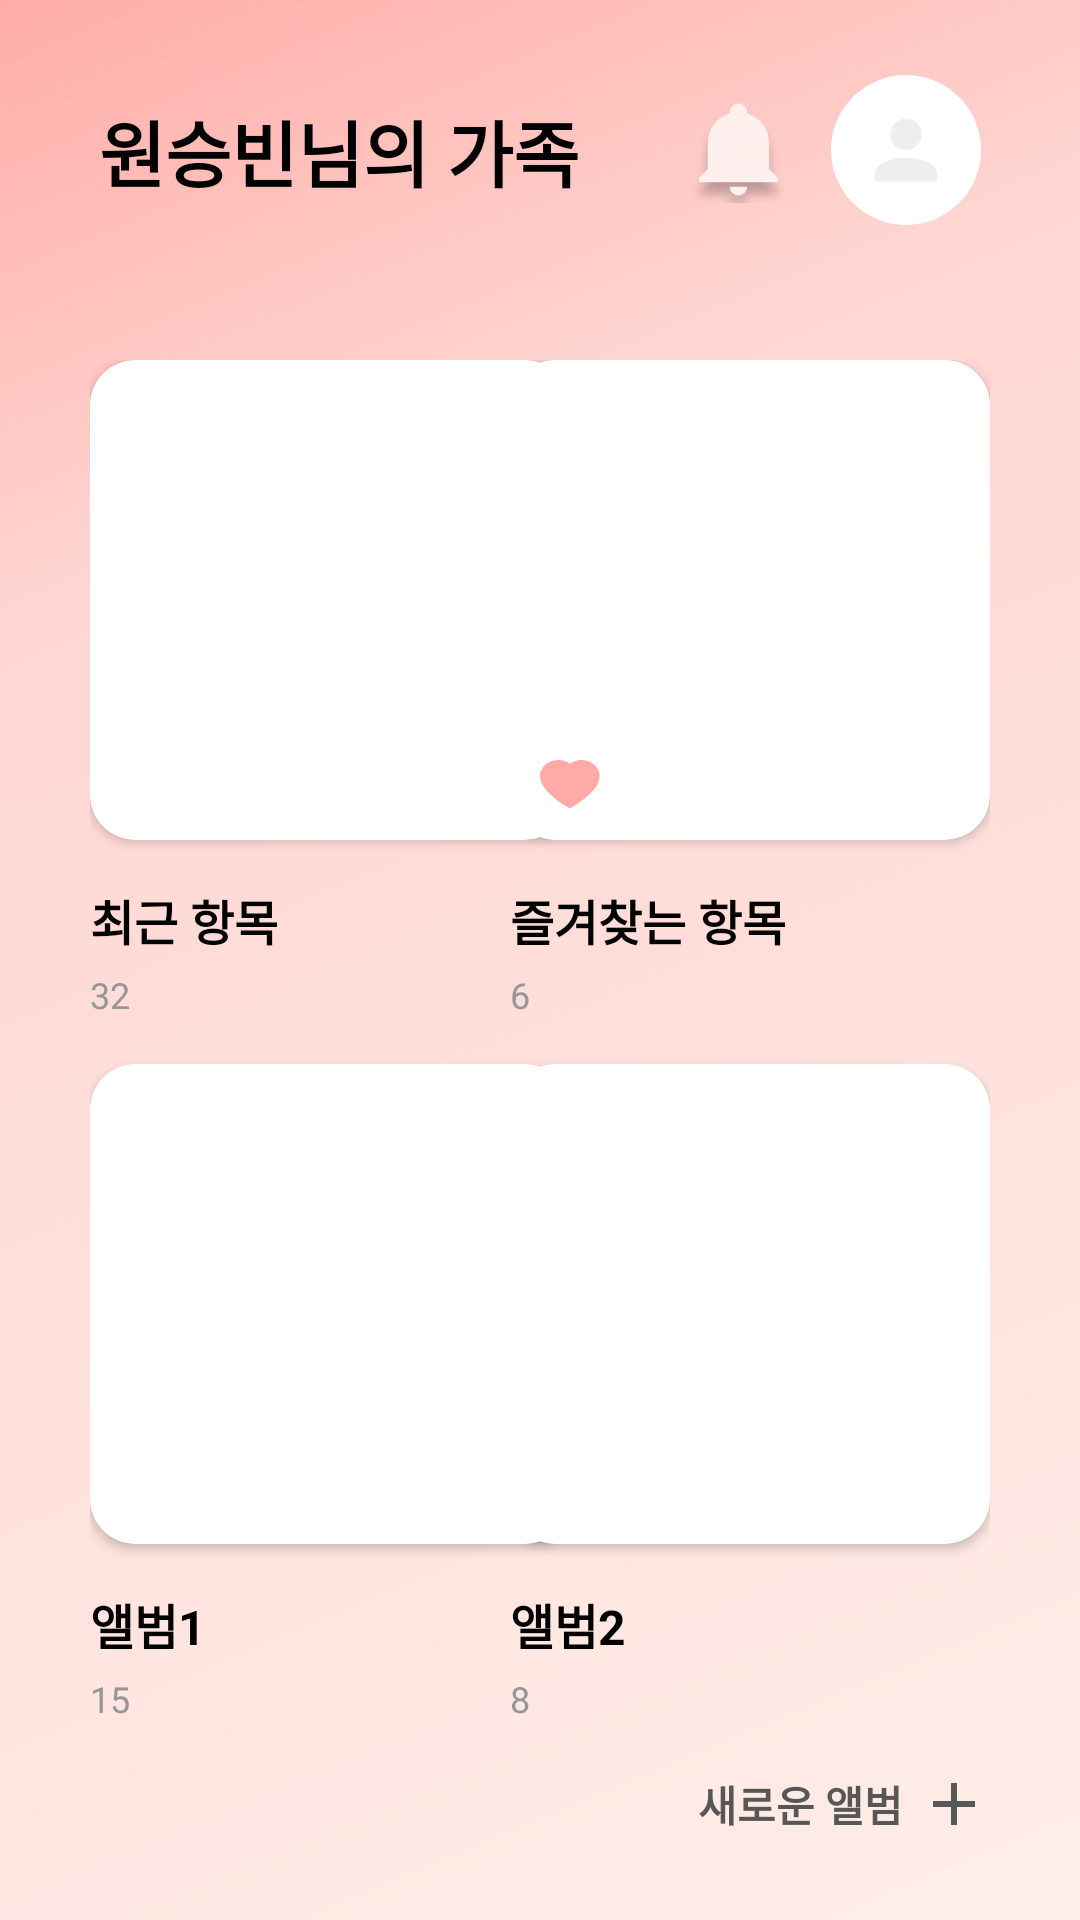

Screen size 1080 x 1920. Icon name, then its center in pixels as (x,y):
heart: (570,784)
notification: (738,153)
